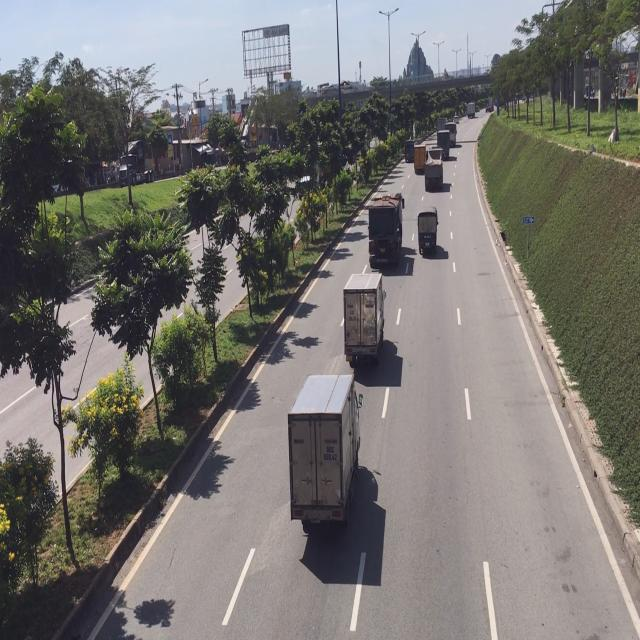truck: (290, 370, 359, 530), (344, 270, 386, 367), (367, 194, 401, 269), (416, 205, 439, 256), (423, 144, 442, 193)
